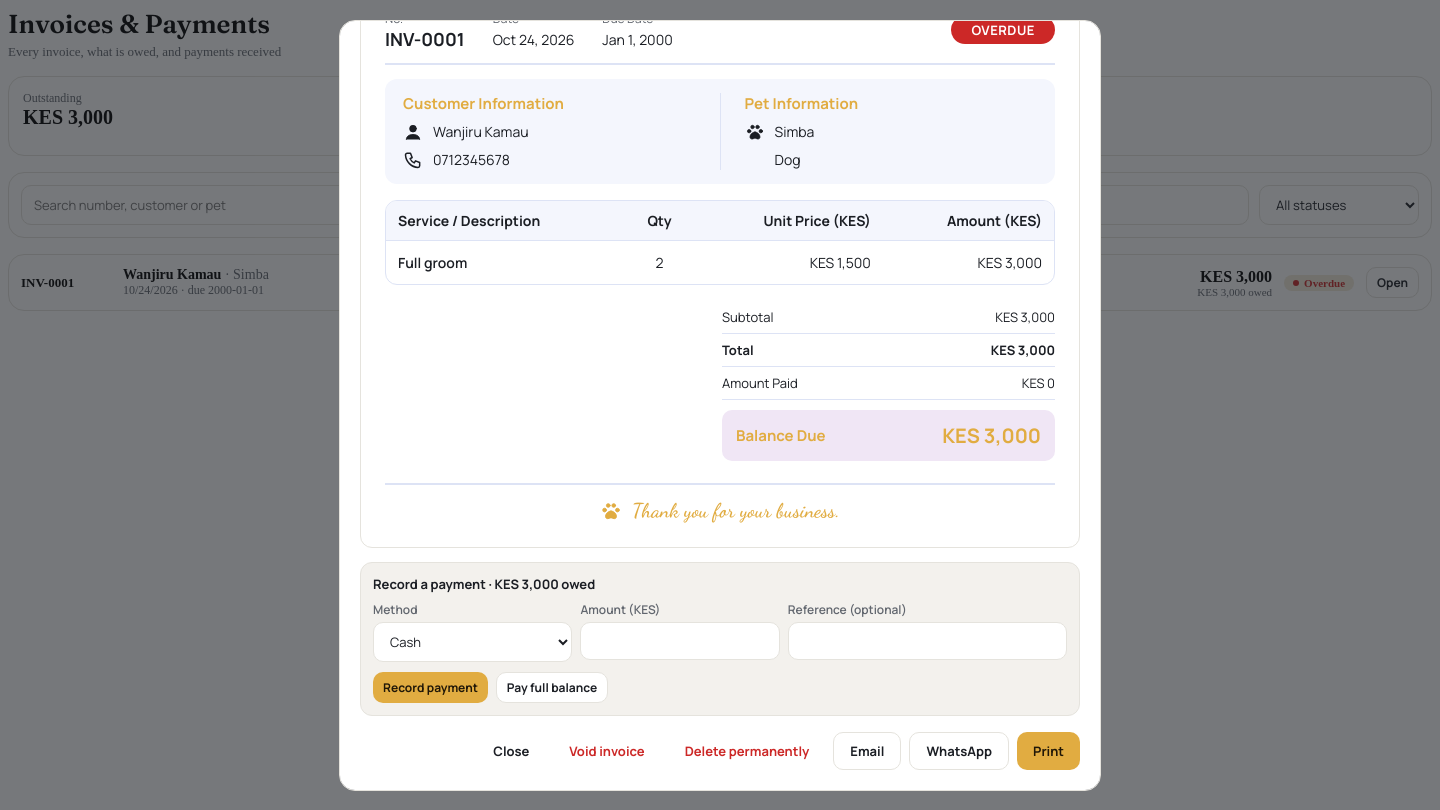
Test case: InvoicesPage › requires a reason to void and offers void only for unpaid invoices
(page scrolled)
Click the button "Void invoice".
click(607, 750)  # box [553,732,661,770]
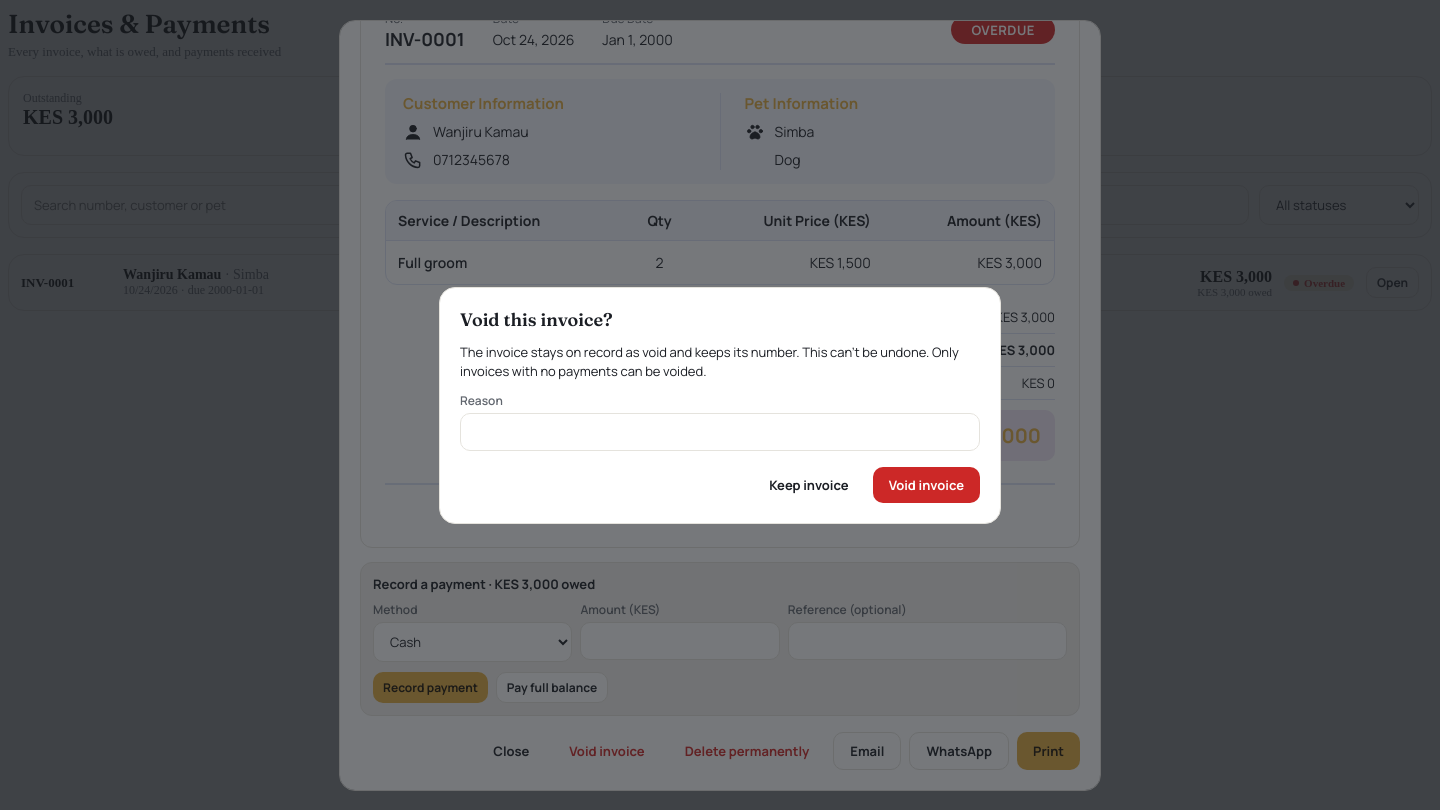
Click the button "Void invoice".
click(926, 484)  # box [873,466,980,502]
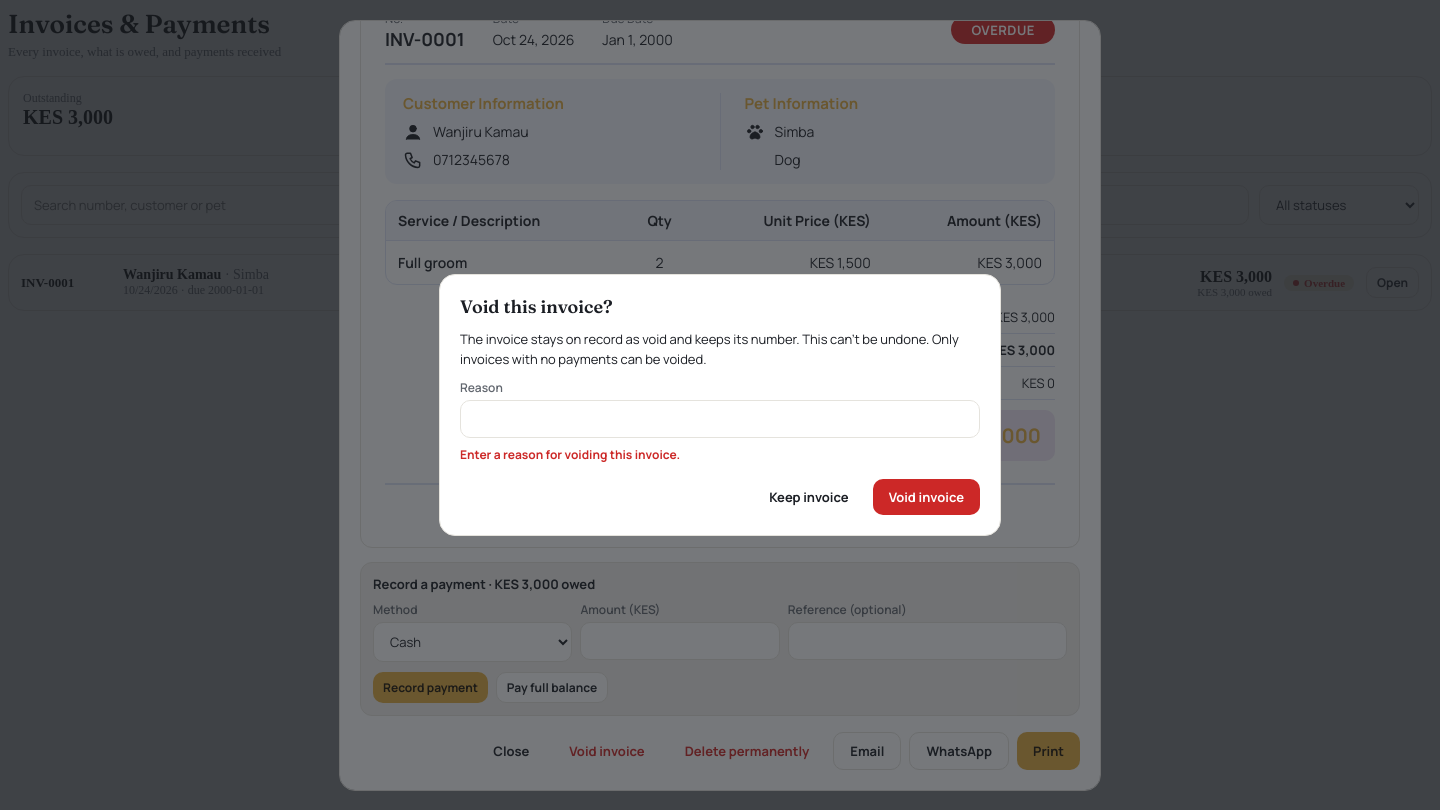
expect the text "Enter a reason for voiding this invoice." is shown: met, box [460,446,680,463]
